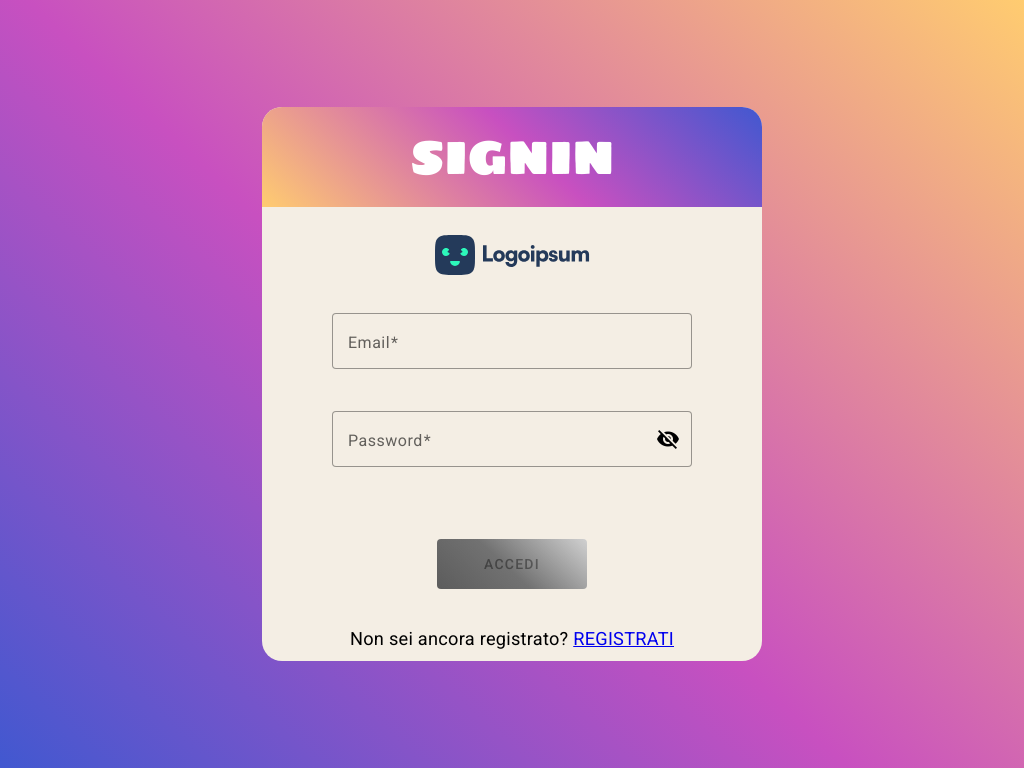
Test: The Login Page › Login form › should enabled submit button when all data are inserted and clock captcha is visible
Type "mario.rossi@gmmail.com" into the field with test id "email" at (512, 341), box [348,329,676,353]
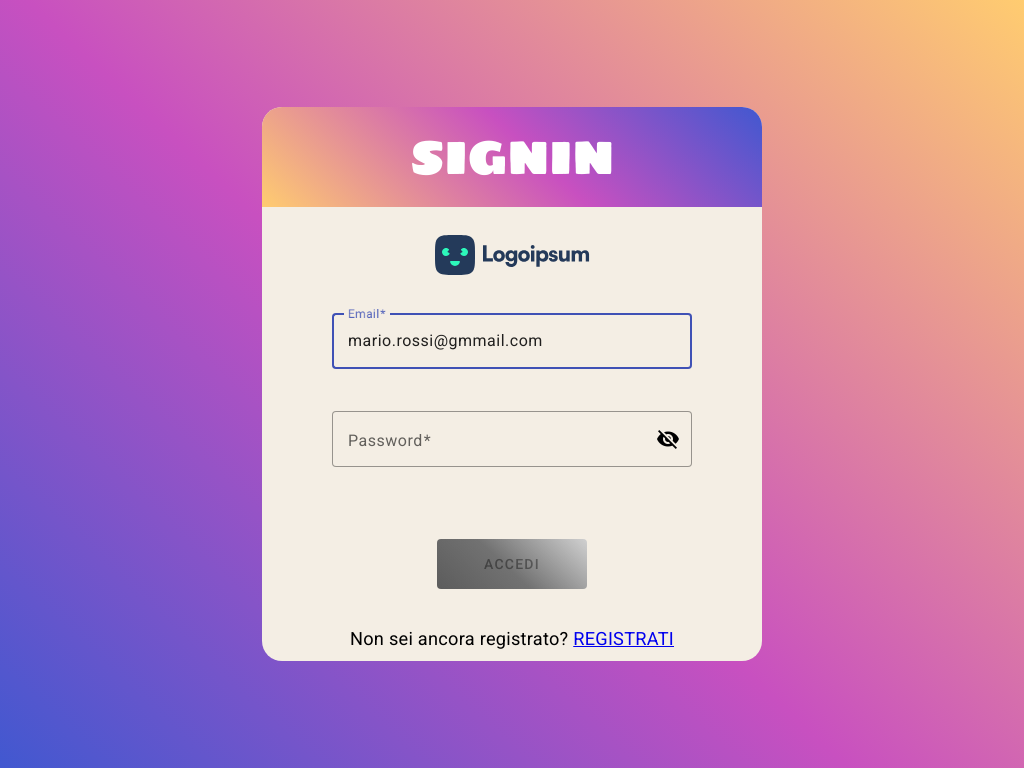
Type "Password1234" into the password field with test id "psw" at (494, 439), box [348,427,640,451]
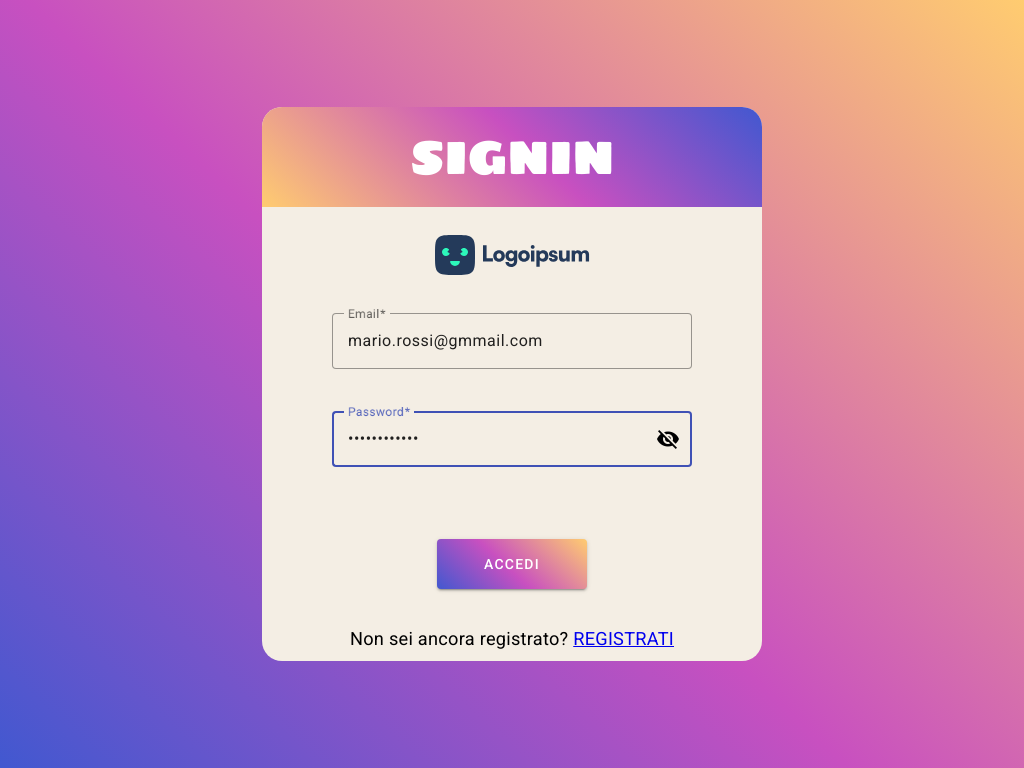
Result: the button with test id "submit" is enabled at [437,539,587,589]
